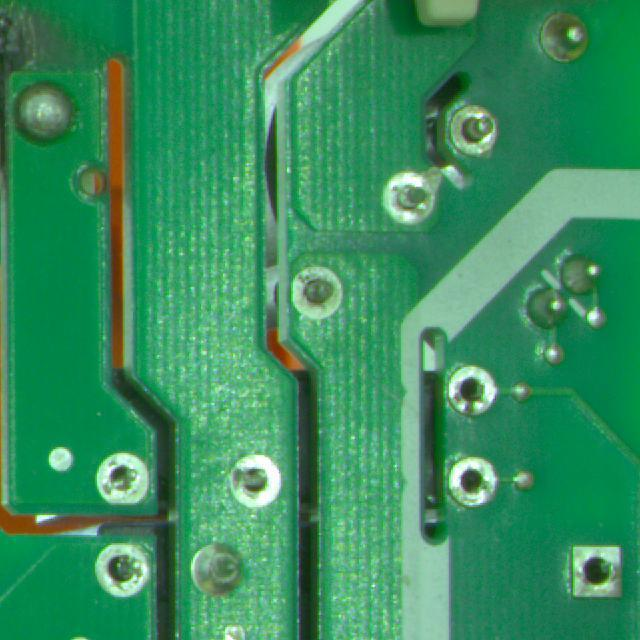Insufficient solder: (562, 534, 629, 605), (377, 164, 438, 228), (448, 88, 505, 155), (287, 265, 348, 326), (91, 449, 157, 504), (224, 453, 288, 507), (447, 364, 501, 422), (446, 456, 496, 515)
